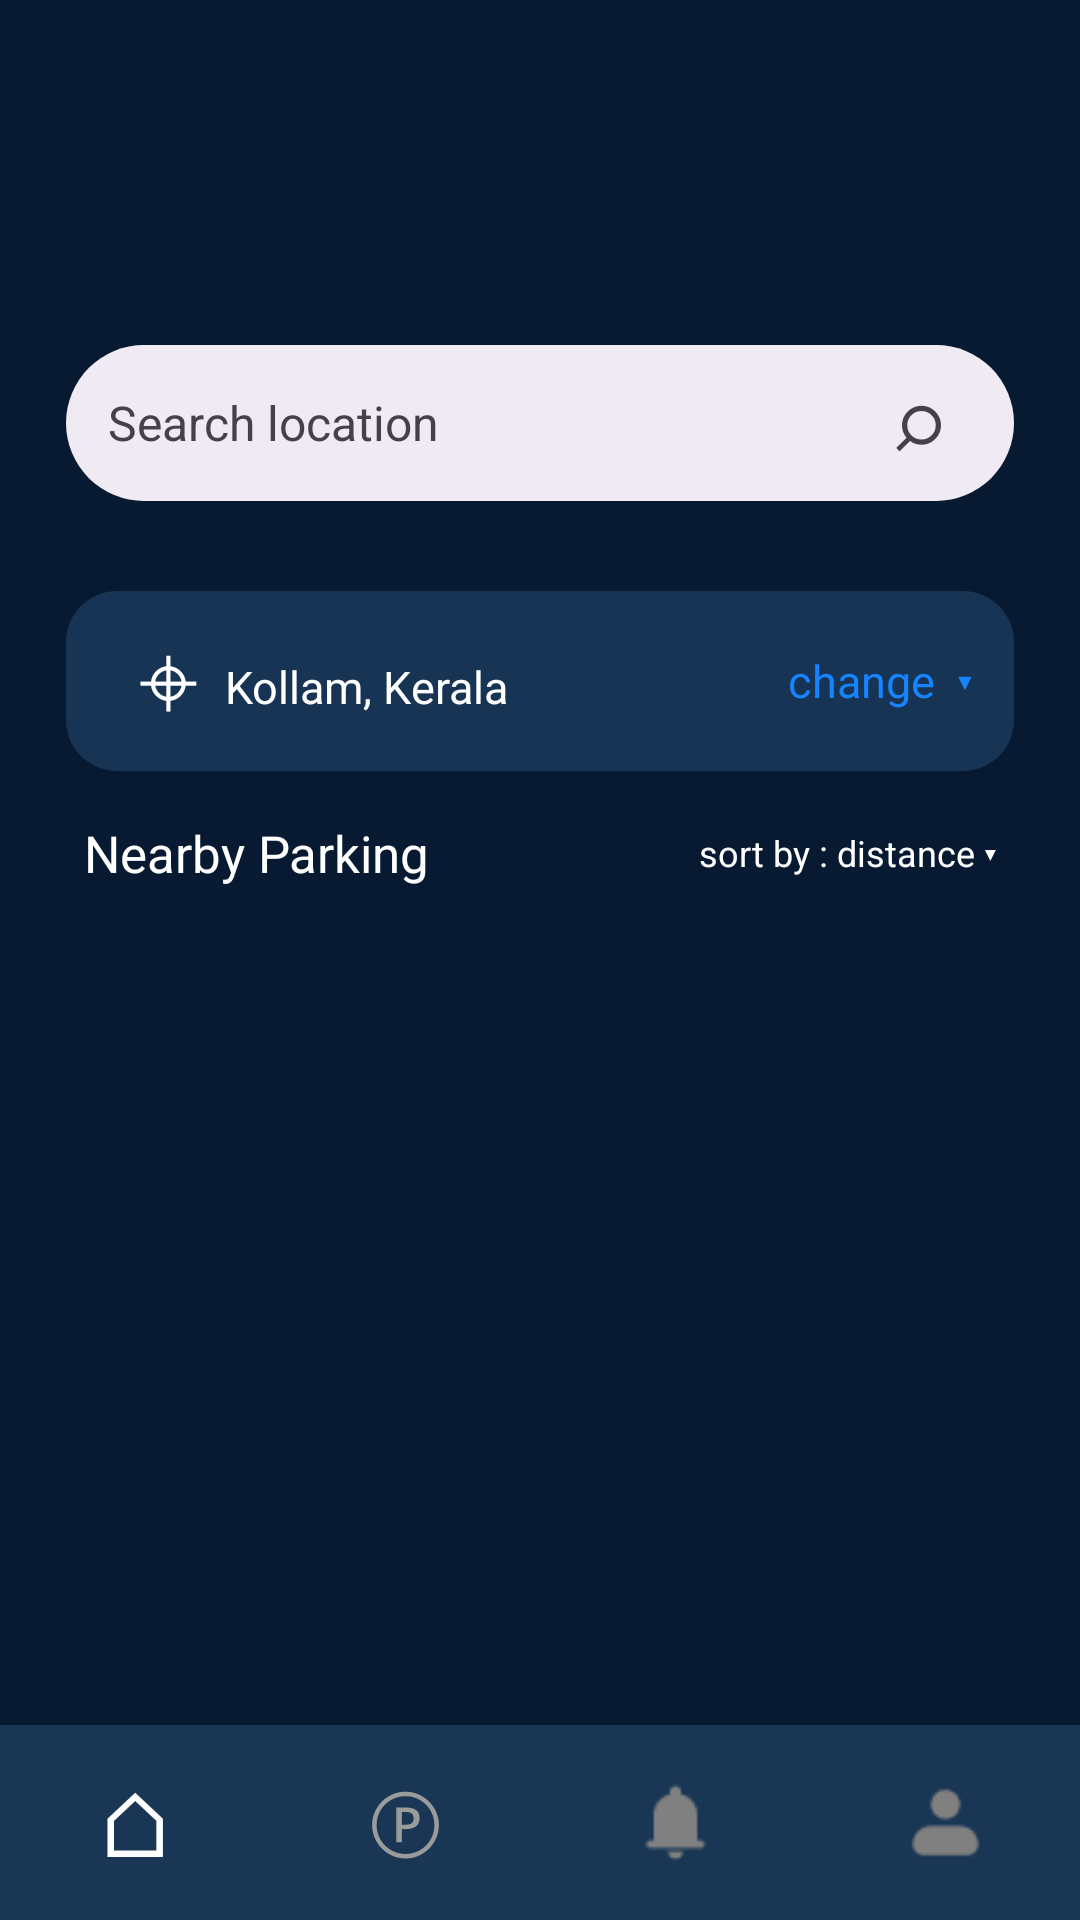

Screen size 1080×1920. Icon name, then its center in pixels as (x,y):
Notifications: (675,1822)
Profile: (945,1822)
